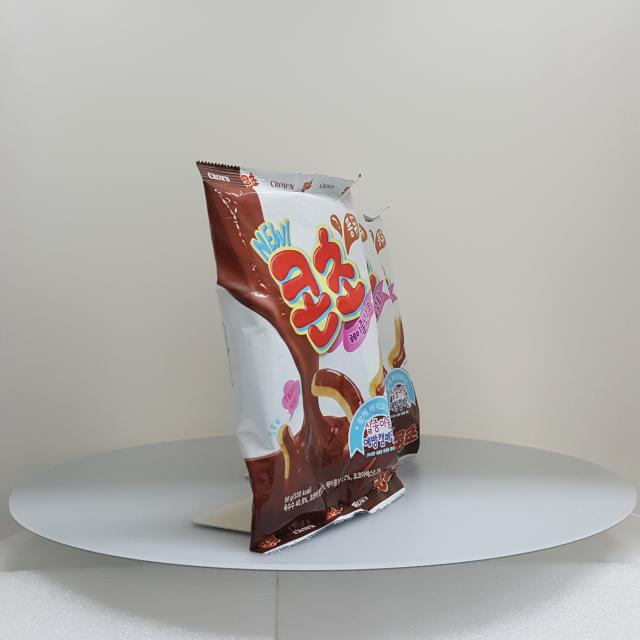-66G: (197, 161, 407, 556)
